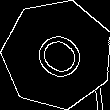O_SE: (24, 22, 91, 87)
